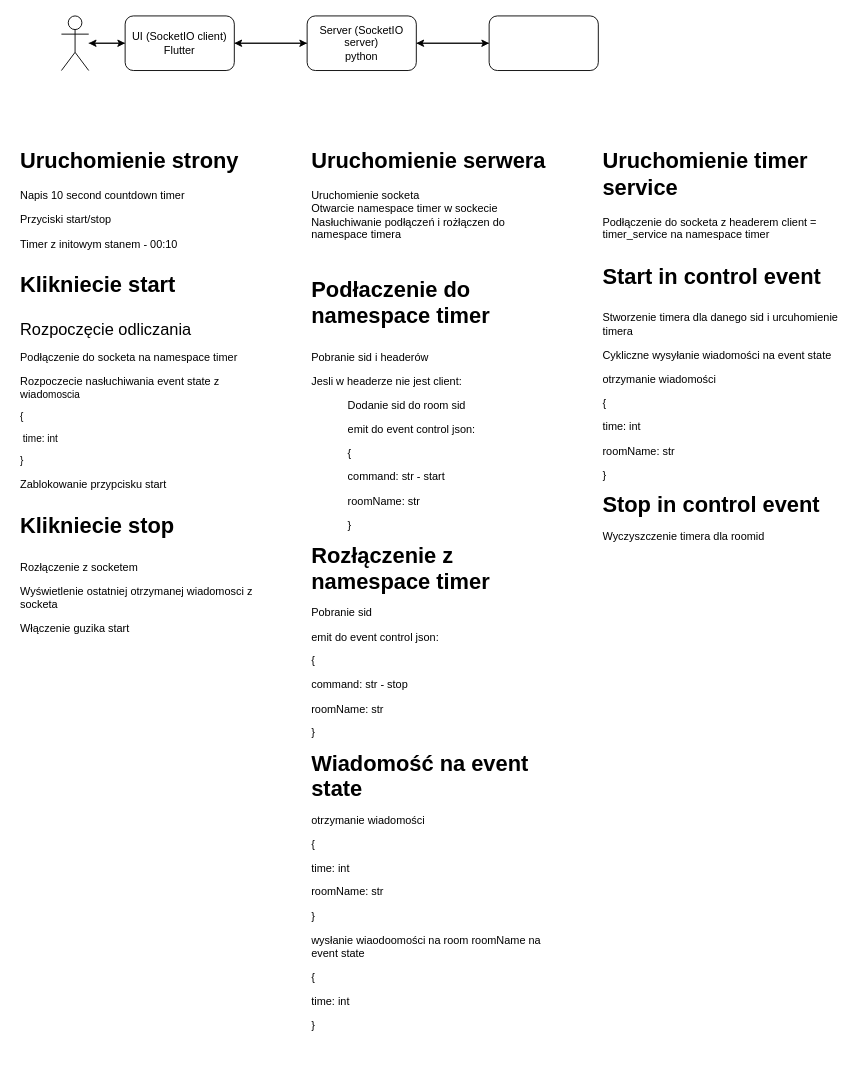
Image size: 859x1087. Some labels were removed from this diagram. The centre of each missing label's shape, as x and y in pixels:
Actor: (75,43)
Timer service (timer app i SocketIO client): (543,43)
